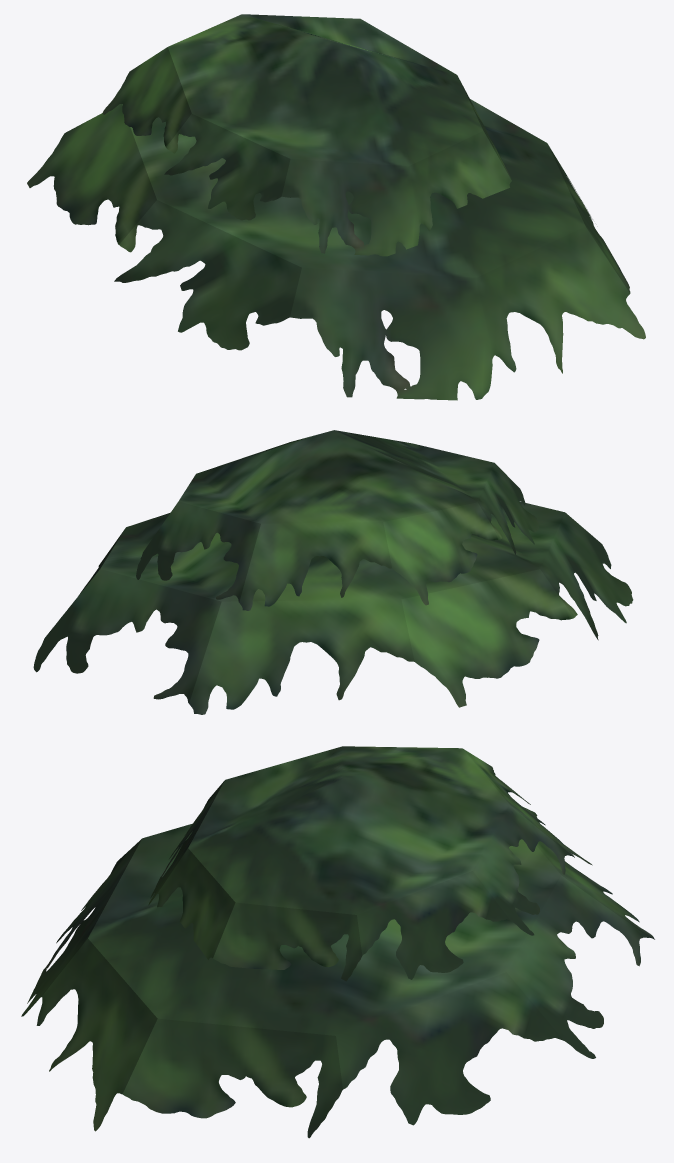
The model's file is Bush_002.fbx.
3 renders of one model, top to bottom at view 1: azimuth 30°, elevation 25°; view 2: azimuth 150°, elevation 25°; view 3: azimuth 270°, elevation 25°, orthographic.
Visible parts, largest first — view 1: Plane588; view 2: Plane588; view 3: Plane588.
Boxes of the visible parts, bbox=[...] form: Plane588: bbox=[27, 14, 645, 400]; Plane588: bbox=[33, 430, 633, 714]; Plane588: bbox=[21, 746, 654, 1138].
Bounding box in the file's own units: 198 × 94.32 × 210.
1 material, 1 textured.
